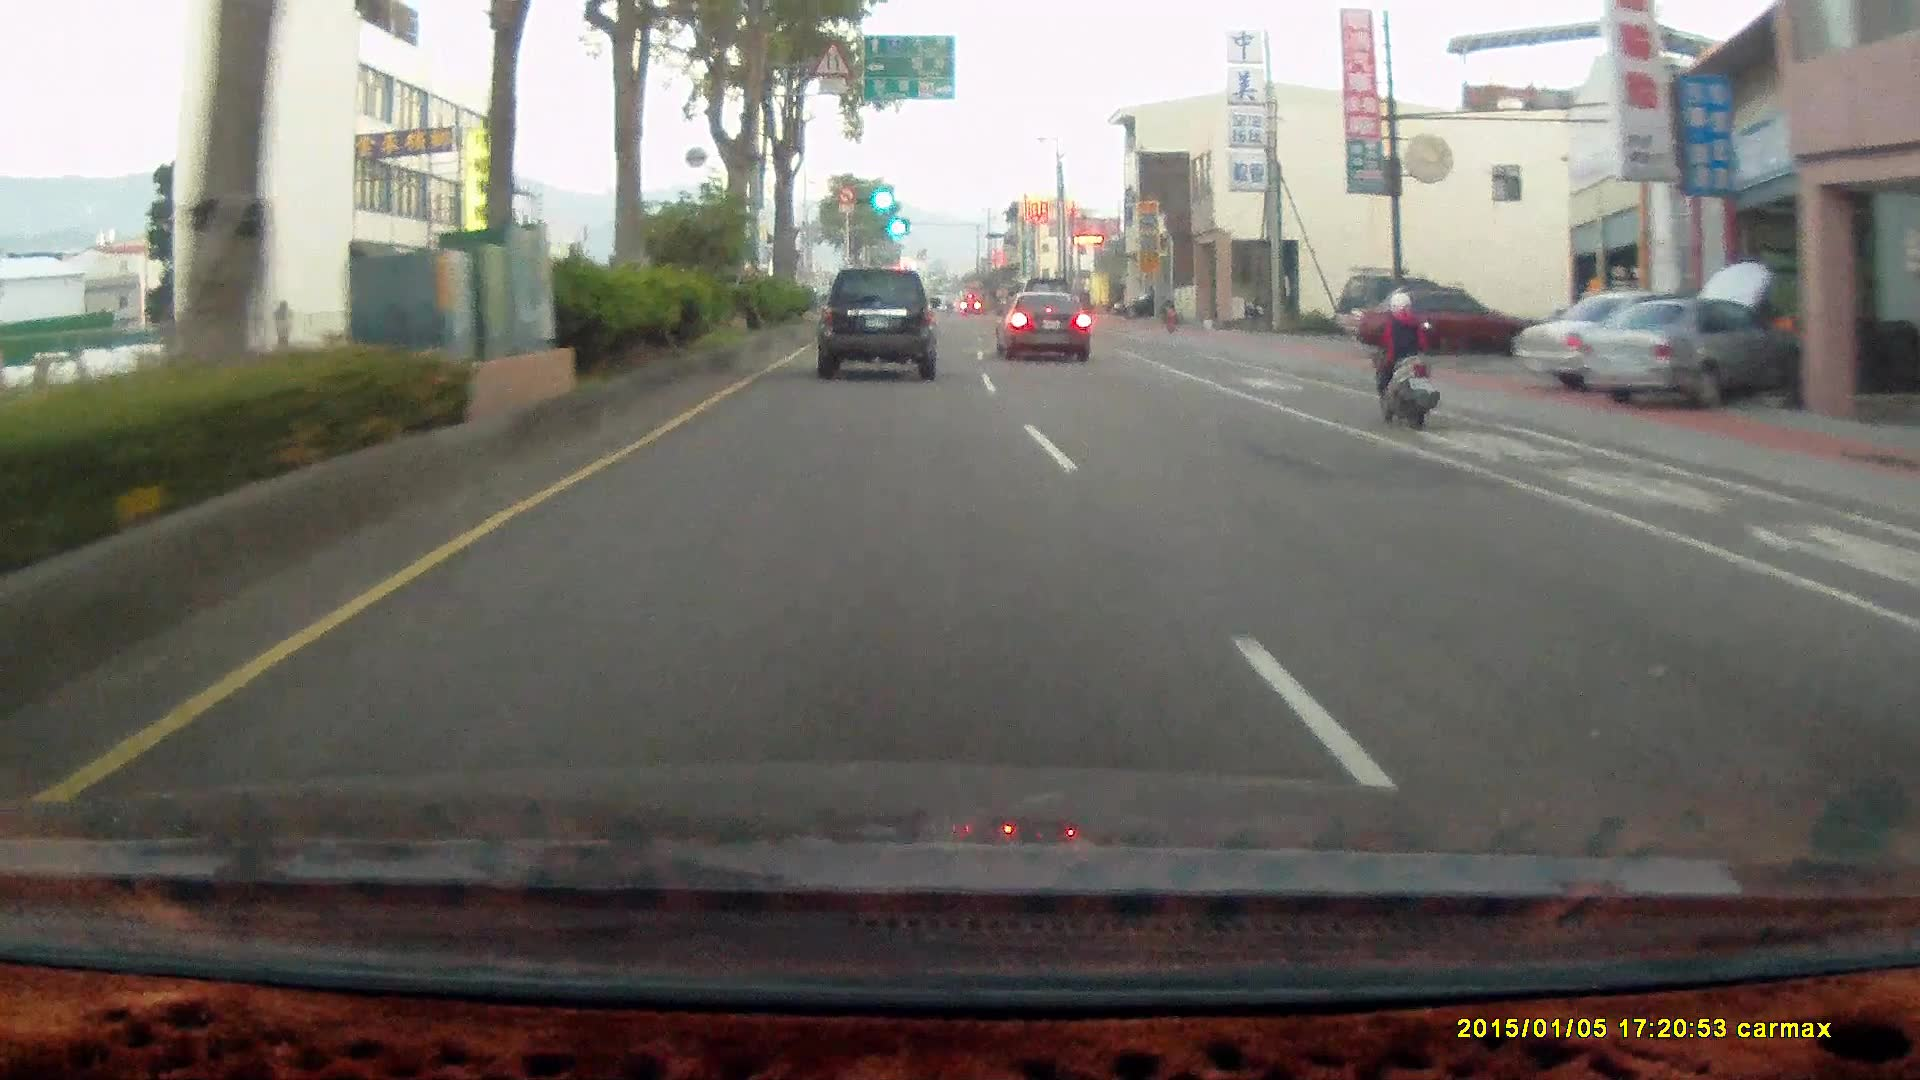rider: (1353, 276, 1453, 442), (1367, 284, 1439, 422)
vehicle: (1515, 294, 1746, 397), (1585, 296, 1802, 404), (1582, 299, 1798, 409), (813, 273, 943, 389), (816, 266, 940, 380), (1351, 285, 1539, 357), (1351, 286, 1540, 358), (1335, 275, 1456, 342), (995, 296, 1093, 370), (995, 289, 1091, 362), (1112, 291, 1172, 317)
